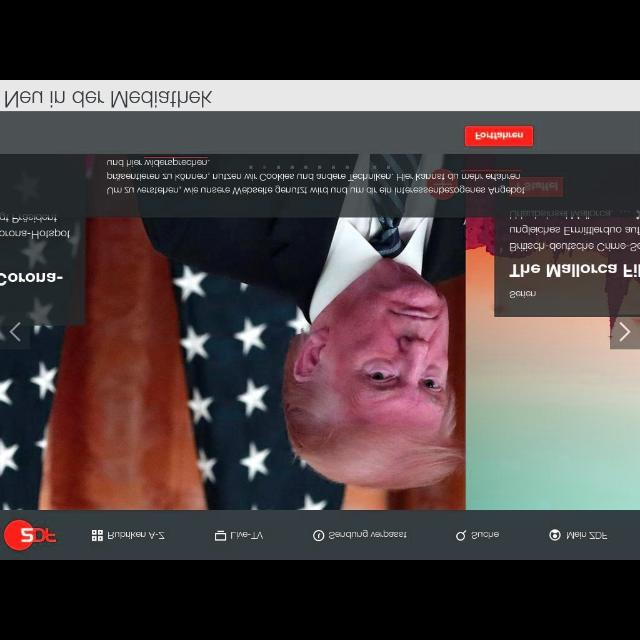backgroundimage: (3, 154, 635, 511)
button: (428, 168, 458, 198), (612, 316, 634, 349), (9, 314, 29, 346)
icon: (8, 319, 24, 345), (620, 320, 632, 342), (548, 529, 562, 541), (92, 528, 102, 544), (214, 530, 226, 542), (312, 529, 324, 541), (455, 530, 467, 540)
iframe: (5, 110, 640, 214)
image: (5, 519, 58, 551)
pageindicator: (247, 160, 396, 172)
text: (106, 157, 524, 197), (510, 207, 640, 251), (3, 86, 211, 110), (508, 263, 636, 279), (3, 214, 71, 238), (4, 272, 64, 288), (474, 128, 524, 142), (329, 531, 407, 539), (108, 532, 166, 540), (516, 181, 558, 191), (568, 530, 606, 540), (232, 531, 262, 539), (470, 530, 500, 538), (511, 289, 537, 297)
textbutton: (463, 126, 535, 148), (512, 177, 562, 195)
